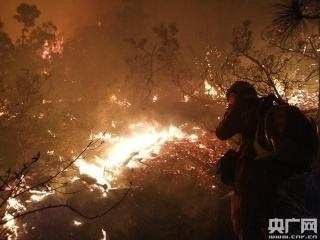fire: (69, 119, 208, 195), (0, 174, 51, 239), (200, 71, 229, 105), (37, 31, 66, 64)
